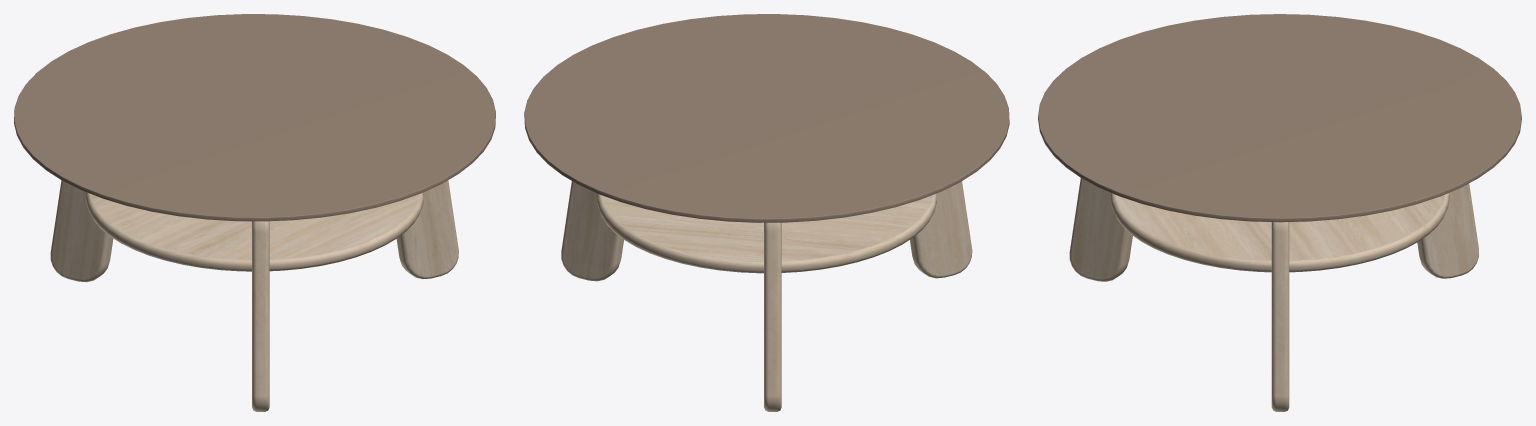
Rendered from MEGA_PACK_Table__pond_table-WOOD.glb.
3 renders of one model, left to right at view 1: azimuth 30°, elevation 25°; view 2: azimuth 150°, elevation 25°; view 3: azimuth 270°, elevation 25°, orthographic.
Visible parts, largest first — view 1: pond_table-WOOD; view 2: pond_table-WOOD; view 3: pond_table-WOOD.
Boxes of the visible parts, x1,y1,x2,y2 form: pond_table-WOOD: [14, 14, 495, 411]; pond_table-WOOD: [524, 14, 1009, 411]; pond_table-WOOD: [1038, 14, 1521, 411].
Size of the model in its own units: 0.7528 by 0.3509 by 0.7528.
1 material, 1 textured.
